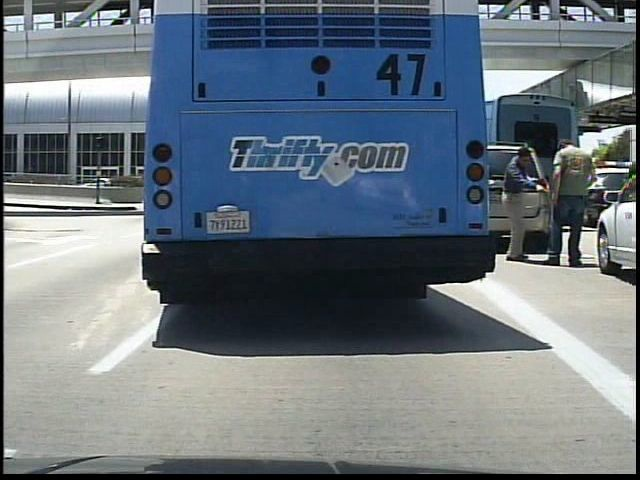person: (543, 126, 592, 276), (498, 136, 546, 267)
